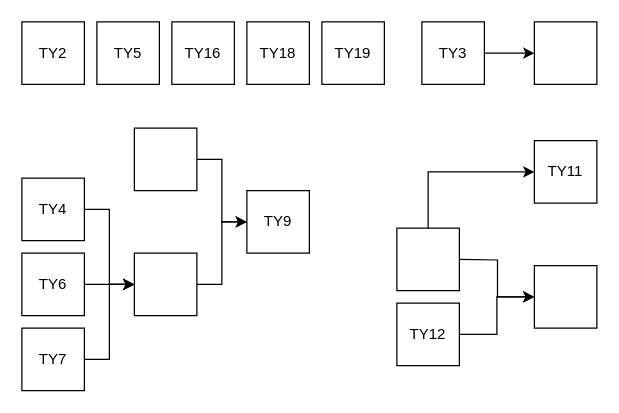
Image size: 619x413. Some labels were removed from this diagram. Each missing label, with the box of its shape:
TY1: (133, 127, 197, 191)
TY10: (396, 227, 459, 291)
TY15: (533, 264, 597, 328)
TY17: (533, 21, 597, 84)
TY8: (133, 252, 197, 316)
